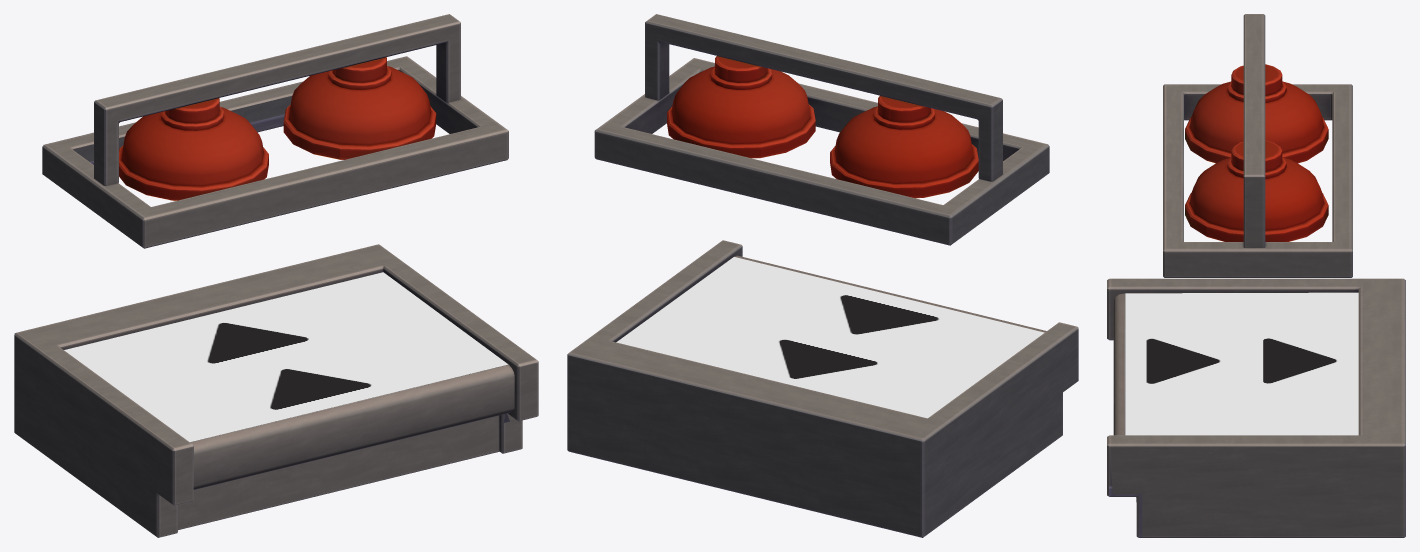
File: serveDishes.glb
The picture shows the model from 3 angles, left to right: view 1: azimuth 30°, elevation 25°; view 2: azimuth 150°, elevation 25°; view 3: azimuth 270°, elevation 25°; orthographic projection. The views are drawn at different scales.
Parts seen in each view (by area): view 1: Object_4.003, direction; view 2: Object_4.003, direction; view 3: Object_4.003, direction.
Part boxes in pixels (<box>): Object_4.003: <box>14,14,538,537</box>; direction: <box>64,272,508,441</box>; Object_4.003: <box>567,14,1078,537</box>; direction: <box>616,257,1044,418</box>; Object_4.003: <box>1107,14,1405,537</box>; direction: <box>1125,292,1358,435</box>.
Bounding box in the file's own units: 4 × 4.05 × 3.04.
Materials: 2 (2 with a texture image).
